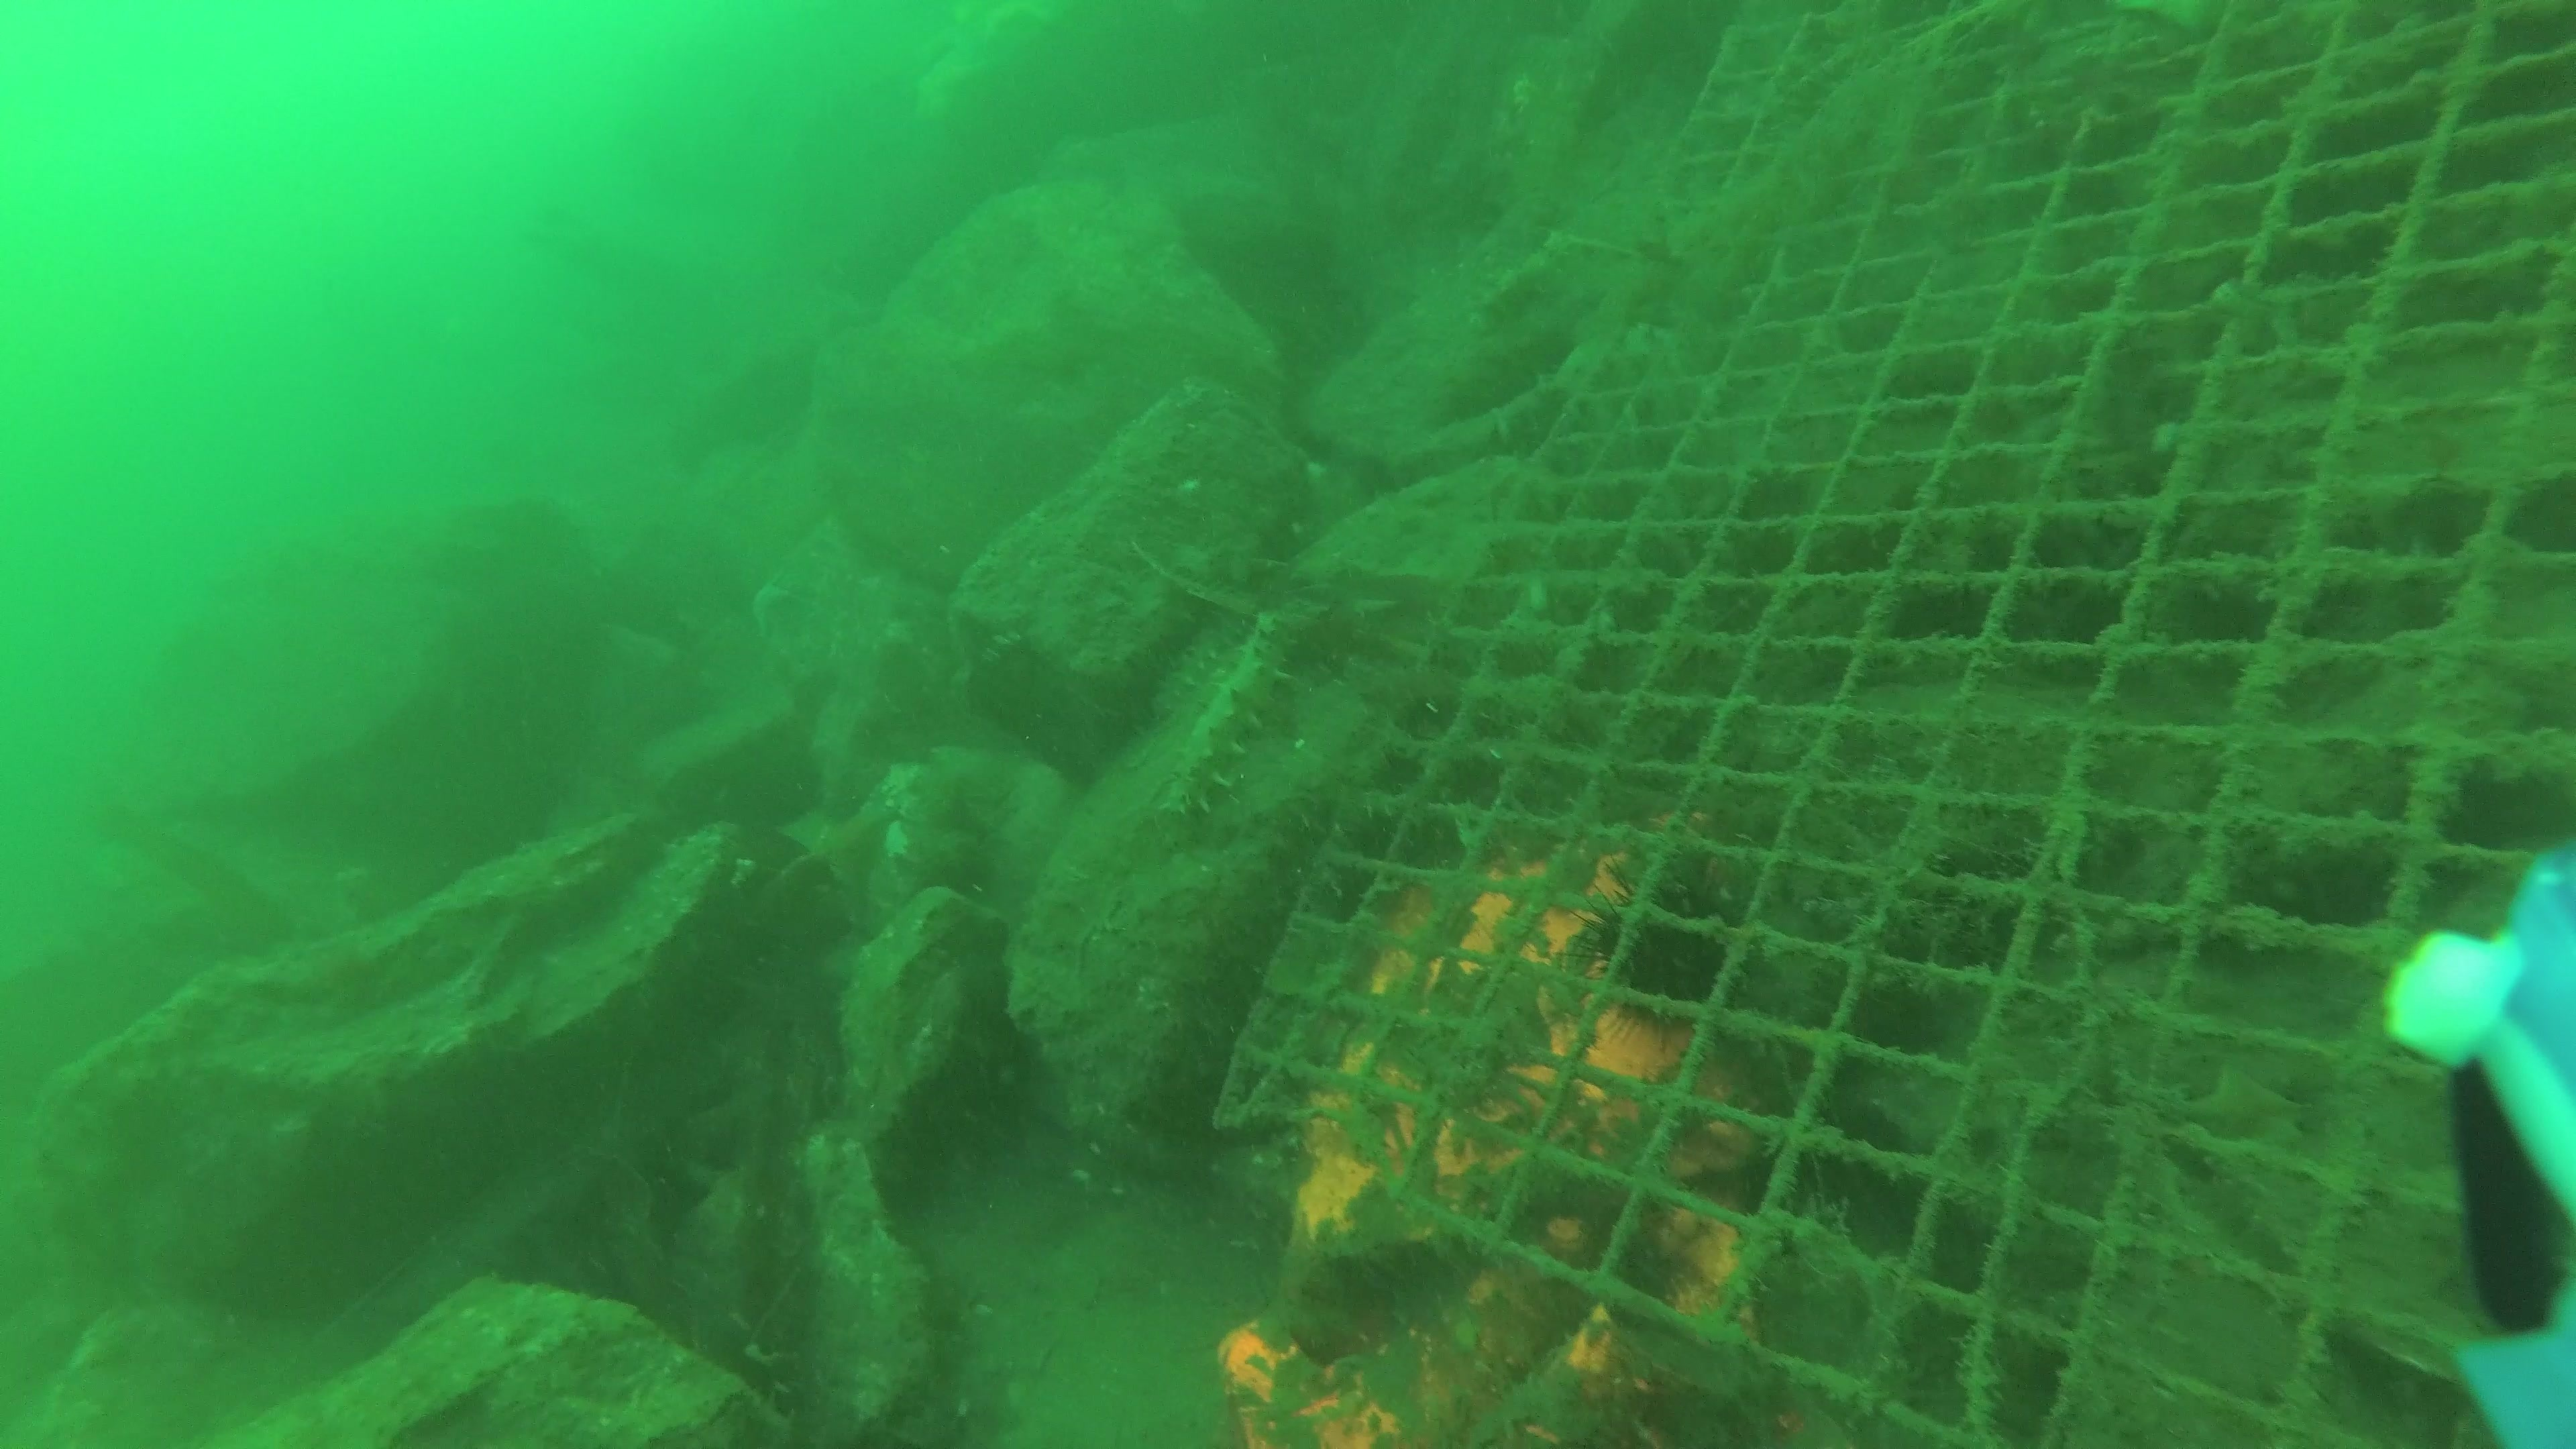echinus: (1582, 870, 1755, 1023)
holothurian: (1162, 609, 1293, 832)
